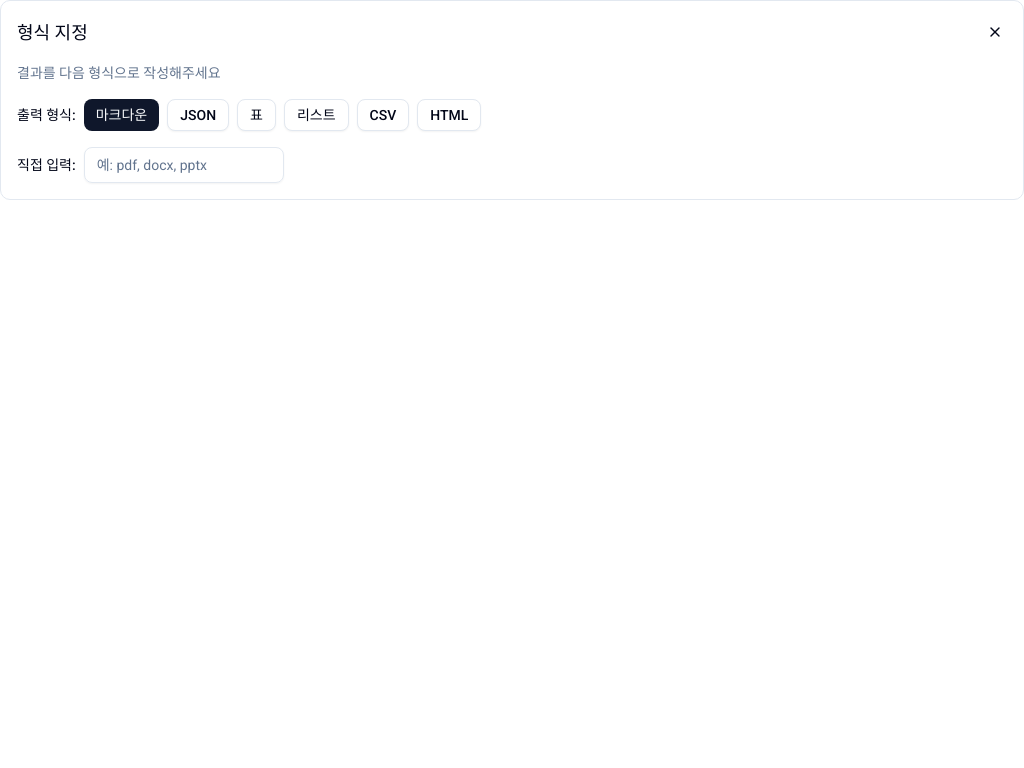
Test: OutputTypeBlock › 닫기 버튼 클릭 시 삭제 확인 다이얼로그가 열려야 한다
Click the 1st button: coordinates (995, 32) 983,20 -> 1007,44
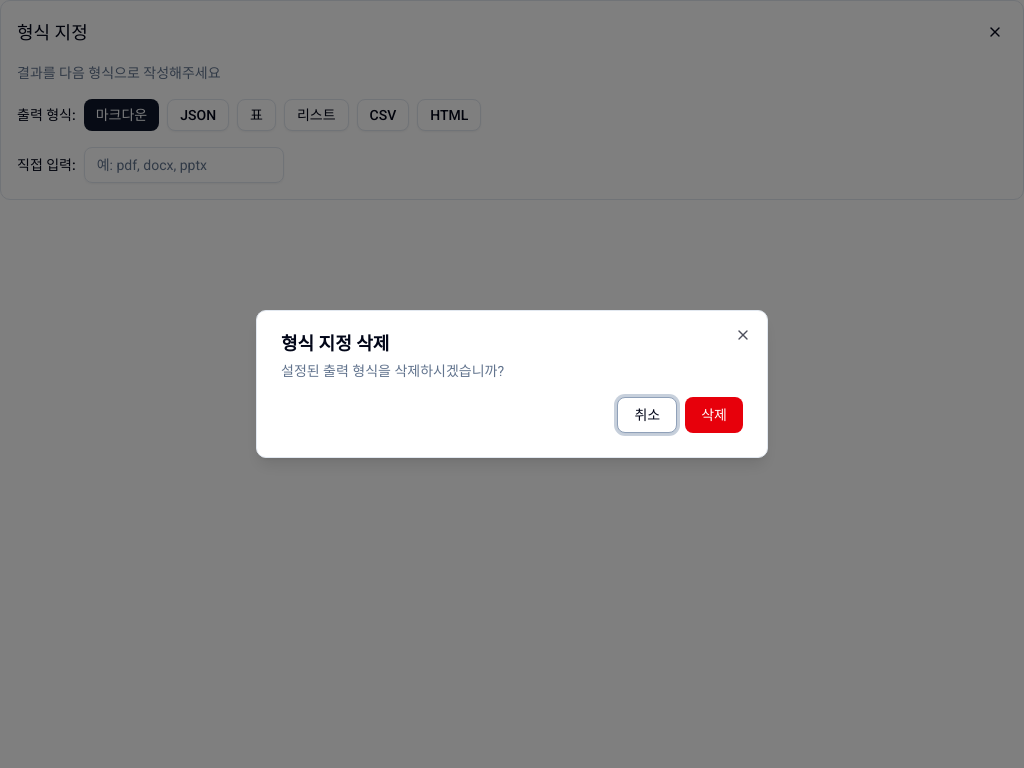
Check: the heading "형식 지정 삭제" is shown, box 281,333 -> 389,354
